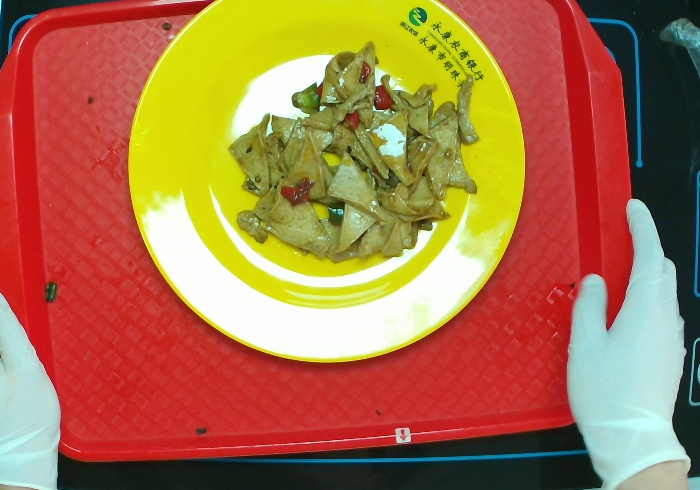YKMZ-Huang_Se_Mian_Pan: (127, 1, 527, 364)
